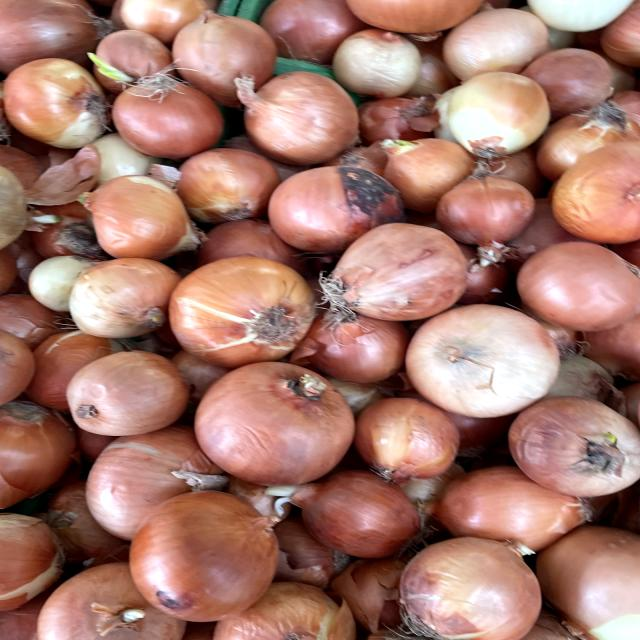onion: (114, 487, 290, 621), (184, 359, 363, 484), (389, 523, 556, 640), (403, 300, 564, 421), (164, 254, 324, 370), (236, 62, 367, 168), (58, 343, 194, 443), (432, 65, 569, 161), (103, 68, 235, 162)
